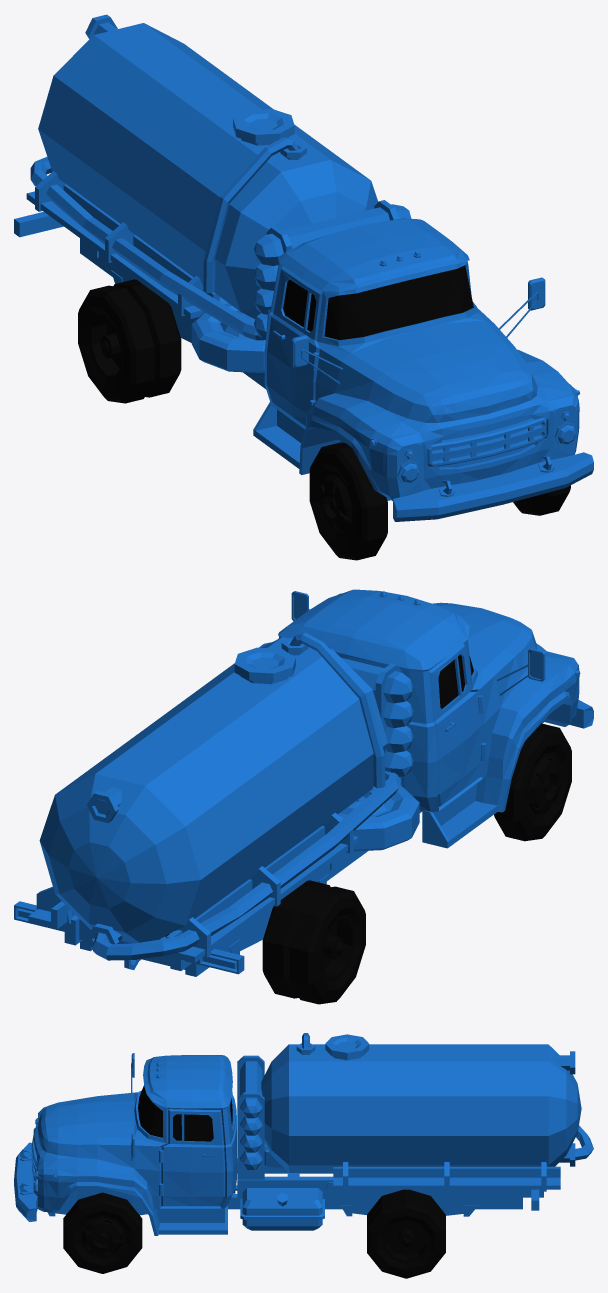
The model's file is SM_vacuum_barrel.fbx.
3 renders of one model, top to bottom at view 1: azimuth 30°, elevation 25°; view 2: azimuth 150°, elevation 25°; view 3: azimuth 270°, elevation 25°, orthographic. The views are drawn at different scales.
Parts seen in each view (by area): view 1: Cube_1, Cylinder_3, Cylinder_2, Cylinder; view 2: Cube_1, Cylinder_3, Cylinder_2; view 3: Cube_1, Cylinder_3, Cylinder.
Part boxes in pixels (x1,y1,x2,y2): Cube_1: (14,14,593,521); Cylinder_3: (78,279,181,403); Cylinder_2: (309,442,387,560); Cylinder: (513,485,570,515); Cube_1: (14,589,593,976); Cylinder_3: (165,880,365,1004); Cylinder_2: (494,723,571,841); Cube_1: (14,1033,593,1235); Cylinder_3: (367,1189,445,1278); Cylinder: (63,1192,142,1273).
Bounding box in the file's own units: 274 × 301 × 785.
